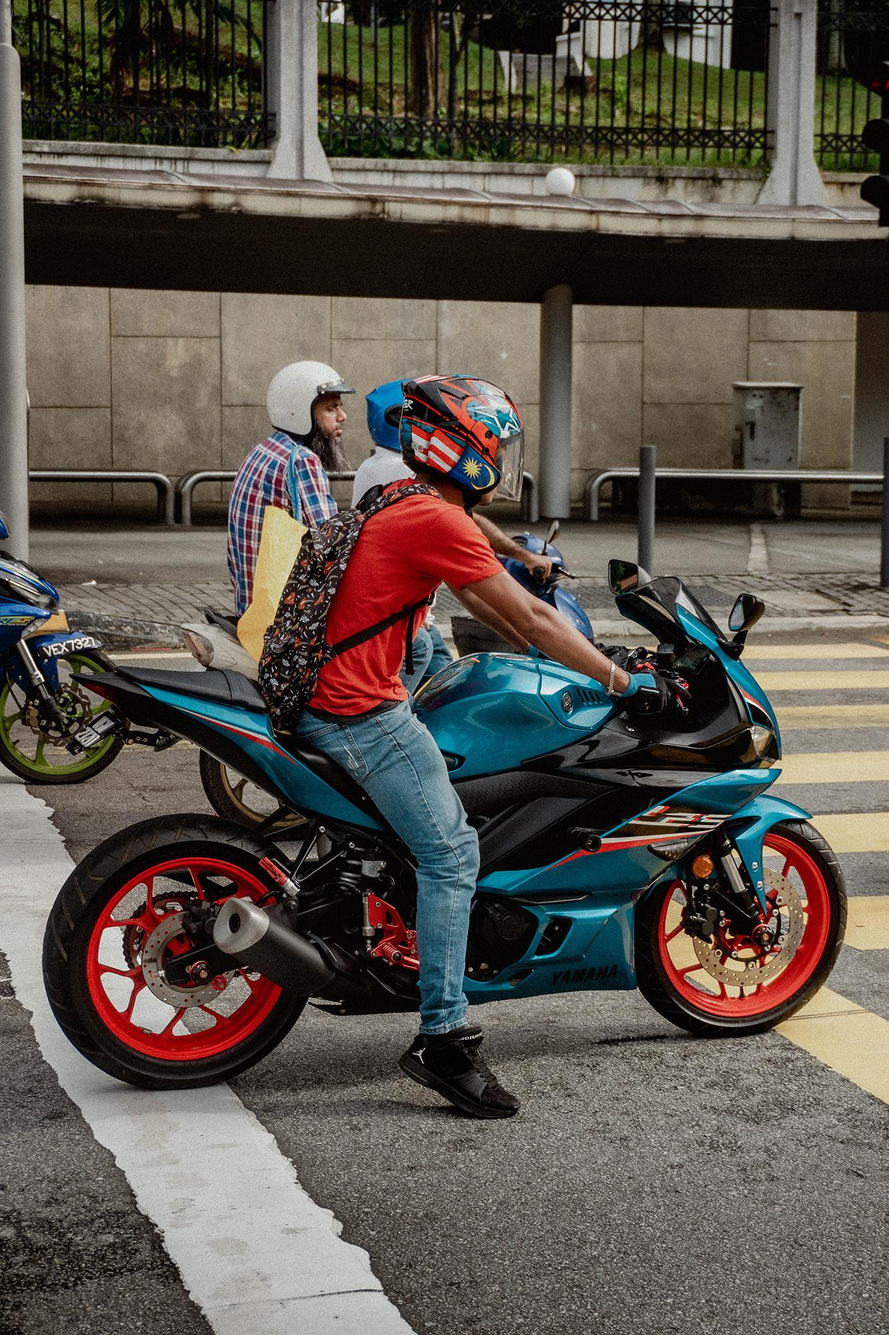helmet: (398, 373, 527, 519), (265, 359, 358, 478)
